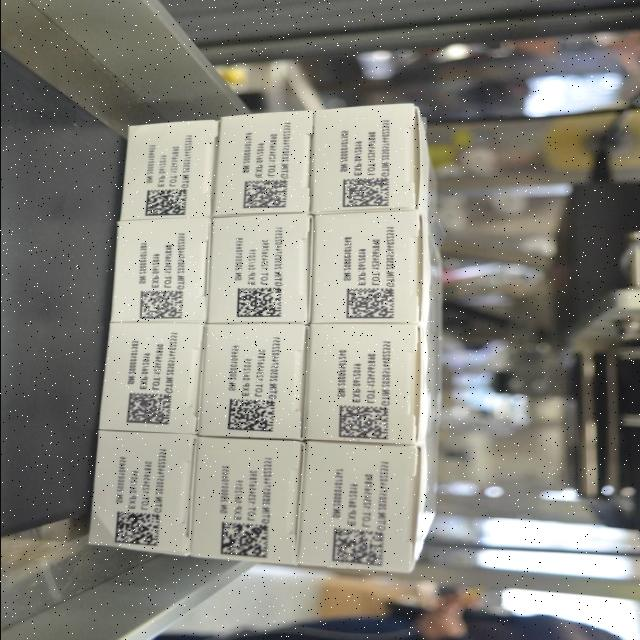datamatrix: (326, 522, 390, 568), (216, 518, 272, 560), (109, 508, 165, 550), (332, 405, 392, 442), (221, 398, 278, 434), (342, 286, 398, 320), (336, 178, 391, 212), (136, 186, 190, 220), (230, 284, 284, 318), (130, 287, 184, 321), (120, 390, 174, 424), (238, 177, 292, 210)
